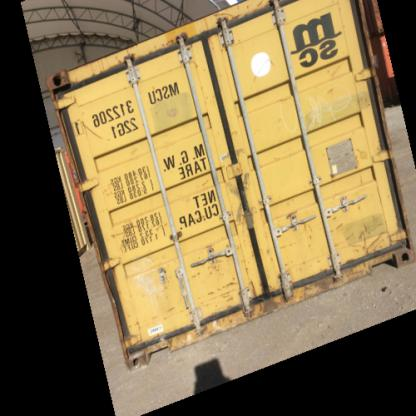Damage: (336, 210, 402, 282), (246, 272, 282, 320), (290, 264, 334, 300), (202, 277, 242, 311), (76, 113, 112, 145), (120, 314, 144, 356), (322, 56, 344, 98), (247, 54, 277, 84), (188, 256, 224, 280), (104, 282, 125, 318), (98, 177, 126, 203), (106, 220, 138, 242), (232, 238, 250, 274), (303, 218, 319, 250), (162, 304, 184, 324), (195, 170, 213, 192), (272, 91, 294, 105), (265, 242, 277, 264), (161, 272, 171, 298), (284, 207, 298, 223)
